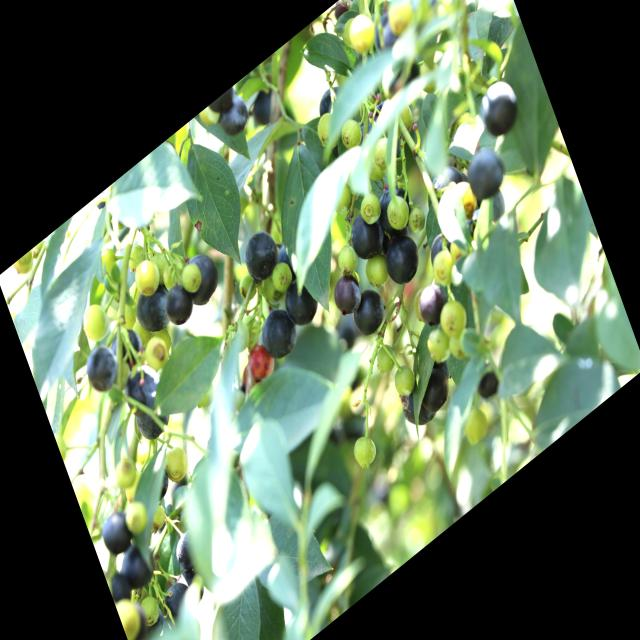blueberry: (175, 242, 224, 318), (380, 226, 430, 299), (460, 136, 509, 208), (130, 274, 178, 347), (475, 74, 523, 146), (237, 218, 285, 289), (255, 300, 300, 370), (343, 202, 388, 270), (278, 269, 321, 338), (343, 279, 388, 344), (80, 337, 124, 402), (121, 357, 166, 419), (118, 532, 161, 593), (374, 177, 414, 238), (131, 393, 173, 449), (414, 363, 454, 419), (159, 278, 197, 336), (328, 268, 365, 322), (159, 573, 196, 626), (98, 506, 134, 560), (215, 92, 252, 144), (170, 524, 206, 574), (422, 224, 457, 274)
blueberry-halfripe: (244, 335, 280, 390)
blueberry-unripe: (343, 4, 382, 64), (78, 297, 114, 350), (435, 291, 470, 344), (131, 252, 164, 304), (422, 321, 456, 371), (160, 438, 193, 489), (448, 172, 481, 223), (382, 0, 419, 44), (382, 188, 415, 237), (115, 590, 147, 640), (313, 106, 345, 156), (118, 493, 152, 540), (362, 248, 394, 296), (348, 427, 380, 474), (140, 330, 172, 375), (389, 357, 420, 403), (369, 130, 399, 176), (334, 238, 364, 282), (429, 246, 459, 290), (336, 112, 365, 157), (356, 186, 386, 229), (136, 588, 164, 632), (228, 316, 256, 359), (112, 452, 141, 493), (392, 95, 418, 140), (372, 338, 401, 378), (268, 258, 296, 299), (161, 251, 188, 293), (178, 256, 204, 298), (328, 180, 356, 219), (114, 298, 140, 337), (150, 247, 174, 288), (145, 500, 170, 538), (131, 313, 156, 351), (236, 270, 260, 306), (126, 237, 150, 272), (405, 202, 429, 237)
